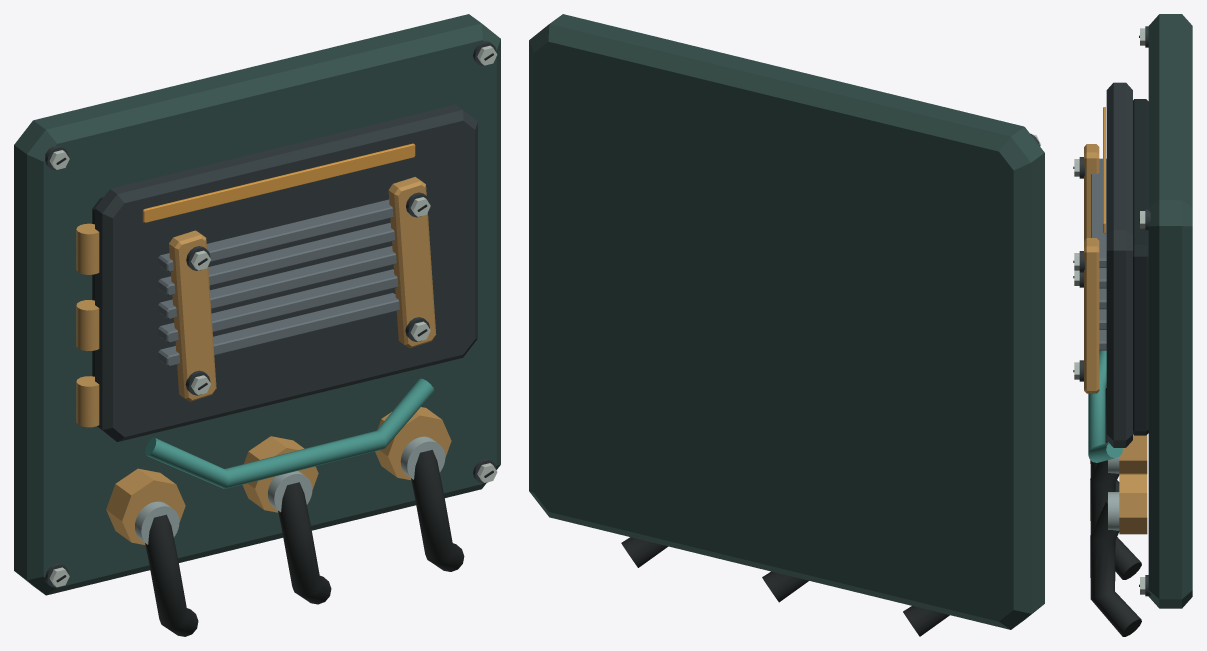
The model's file is thruster-repaired.glb.
3 views of the same model, side by side, from view 1: azimuth 30°, elevation 25°; view 2: azimuth 150°, elevation 25°; view 3: azimuth 270°, elevation 25° (orthographic). The views are drawn at different scales.
Visible parts, largest first — view 1: RB_thruster_repaired; view 2: RB_thruster_repaired; view 3: RB_thruster_repaired.
Part boxes in pixels (x1,y1,x2,y2): RB_thruster_repaired: (14, 14, 500, 636); RB_thruster_repaired: (529, 14, 1044, 636); RB_thruster_repaired: (1073, 14, 1192, 636).
Size of the model in its own units: 0.82 by 0.8637 by 0.204.
